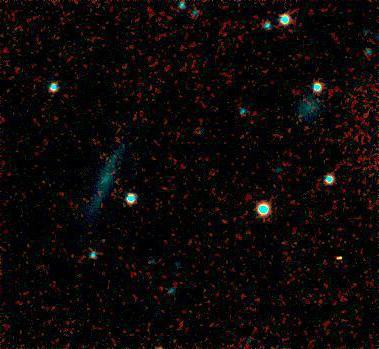star: (275, 183, 305, 213)
